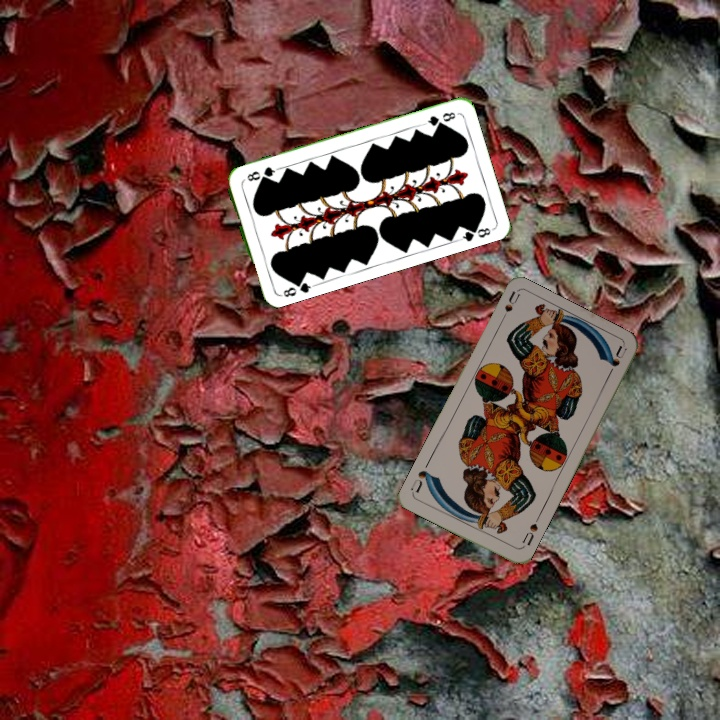G8: (275, 275, 315, 300), (420, 108, 458, 129)
SU: (495, 288, 523, 327), (517, 519, 540, 551)
